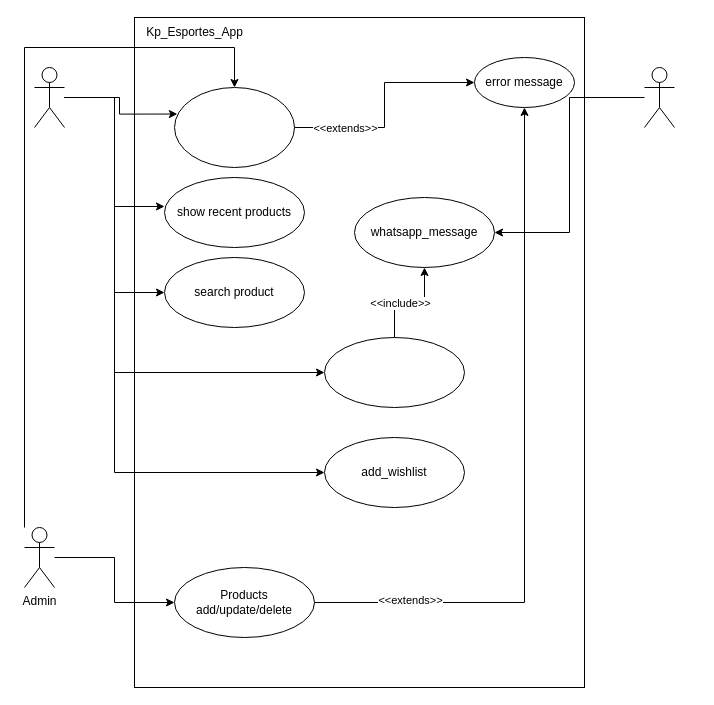
This 714x705 diagram has some shape labels left out. Here are the shapes that lost their labels. From the top down, the centre of each, then its label:
At (x=49, y=97): "Client".
At (x=659, y=97): "whatsapp_api".
At (x=234, y=127): "auth_actions - login - logout - signup".
At (x=394, y=372): "buy product".
